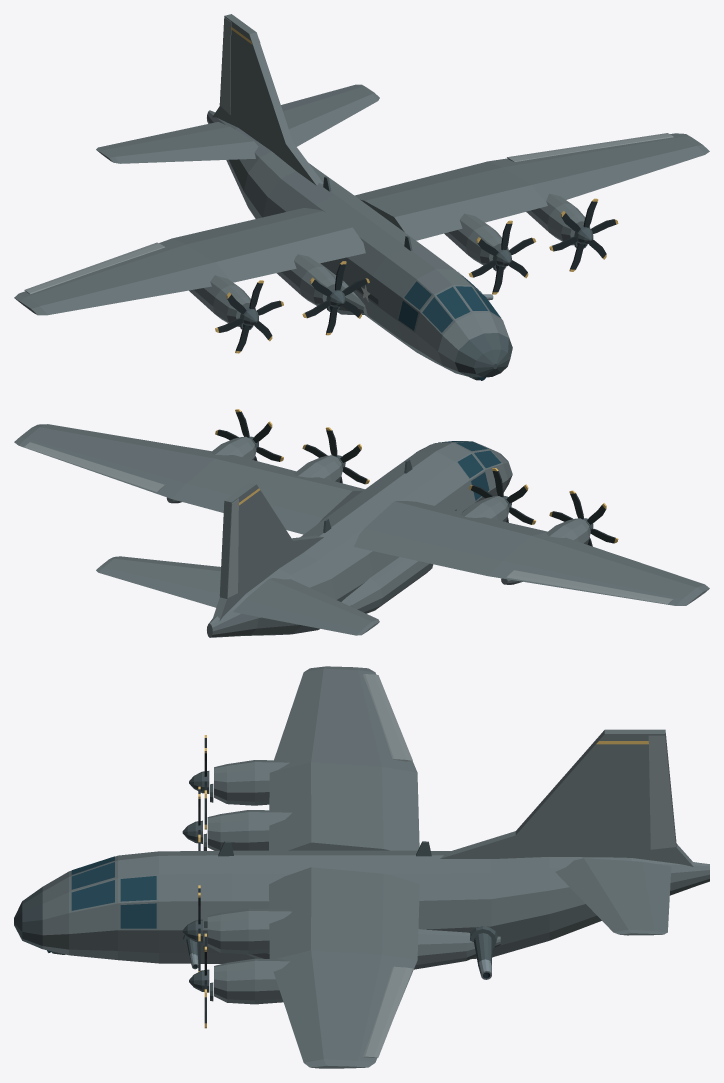
3 views of the same model, one above another, from view 1: azimuth 30°, elevation 25°; view 2: azimuth 150°, elevation 25°; view 3: azimuth 270°, elevation 25° (orthographic). The views are drawn at different scales.
Visible parts, largest first — view 1: Fuselage | pressure shell, Mainplane R, Mainplane L, Dorsal fillet and fin, Tailplane R, Tailplane L, AE2100 R1, AE2100 L1, AE2100 R2, AE2100 L2, Propeller R2 | rotate local Y, Propeller L2 | rotate local Y (+5 smaller); view 2: Mainplane R, Fuselage | pressure shell, Mainplane L, Dorsal fillet and fin, Tailplane R, Tailplane L, Undercarriage fairing R, Aileron R, Aileron L, Rudder, AE2100 L1, AE2100 R2 (+6 smaller); view 3: Fuselage | pressure shell, Mainplane L, Mainplane R, Dorsal fillet and fin, Tailplane L, AE2100 L1, AE2100 L2, AE2100 R1, AE2100 R2, Rudder, Undercarriage fairing L, Aileron L (+5 smaller).
Part boxes in pixels (x1,y1,x2,y2): Fuselage | pressure shell: (207, 110, 512, 377); Mainplane R: (14, 208, 365, 315); Mainplane L: (354, 133, 709, 240); Dorsal fillet and fin: (212, 14, 323, 185); Tailplane R: (96, 122, 258, 163); Tailplane L: (281, 84, 379, 146); AE2100 R1: (276, 254, 342, 305); AE2100 L1: (444, 213, 508, 265); AE2100 R2: (189, 275, 255, 326); AE2100 L2: (526, 193, 590, 245); Propeller R2 | rotate local Y: (215, 280, 283, 353); Propeller L2 | rotate local Y: (549, 198, 618, 271); Mainplane R: (354, 501, 709, 605); Fuselage | pressure shell: (207, 441, 512, 637); Mainplane L: (14, 424, 364, 534); Dorsal fillet and fin: (213, 482, 323, 620); Tailplane R: (233, 578, 379, 635); Tailplane L: (96, 556, 220, 607); Undercarriage fairing R: (341, 557, 433, 613); Aileron R: (506, 570, 673, 604); Aileron L: (24, 442, 164, 491); Rudder: (219, 498, 238, 598); AE2100 L1: (294, 455, 342, 482); AE2100 R2: (501, 518, 590, 584); Fuselage | pressure shell: (14, 850, 709, 963); Mainplane L: (269, 867, 419, 1068); Mainplane R: (269, 666, 419, 850); Dorsal fillet and fin: (440, 729, 693, 866); Tailplane L: (555, 858, 671, 935); AE2100 L1: (207, 908, 292, 954); AE2100 L2: (214, 958, 289, 1004); AE2100 R1: (207, 810, 291, 850); AE2100 R2: (214, 760, 289, 805); Rudder: (648, 735, 675, 849); Undercarriage fairing L: (246, 929, 500, 969); Aileron L: (363, 966, 412, 1057).
Bounding box in the file's own units: 40.4 × 10.74 × 29.75.
